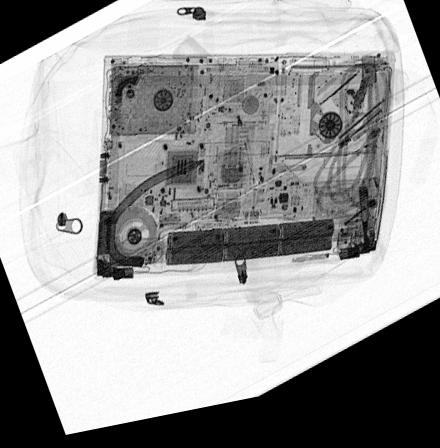Bullet: (356, 199, 368, 258)
